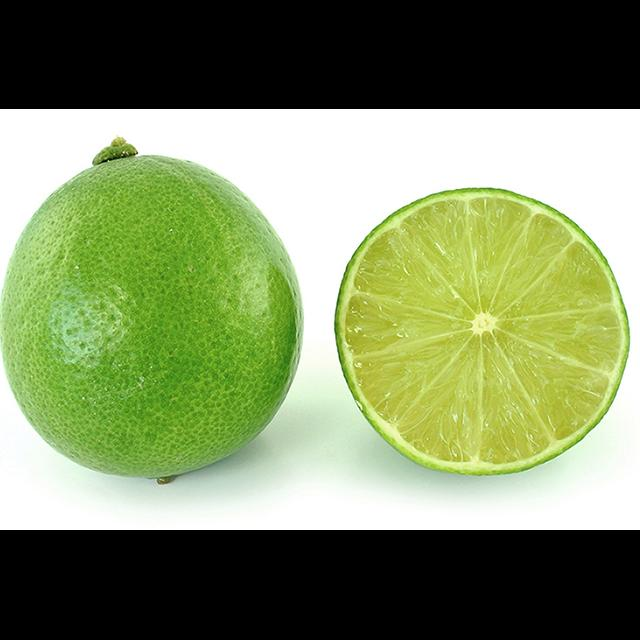lime: (0, 130, 308, 486)
